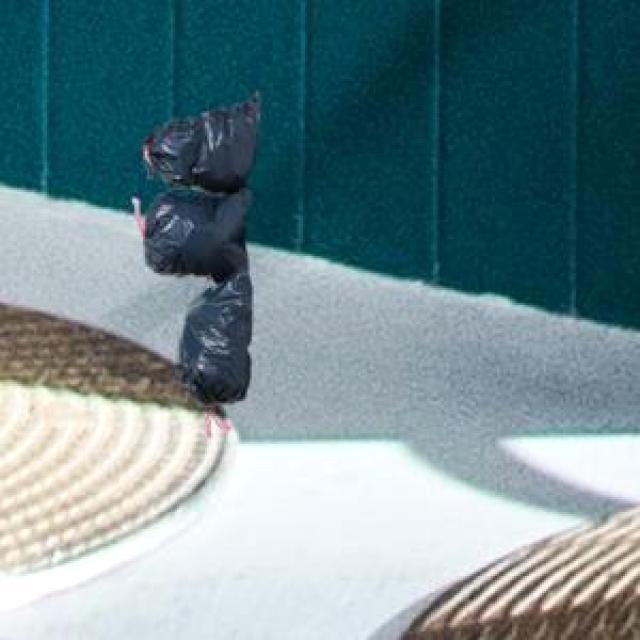Garbage_Bag: (138, 89, 258, 402)
